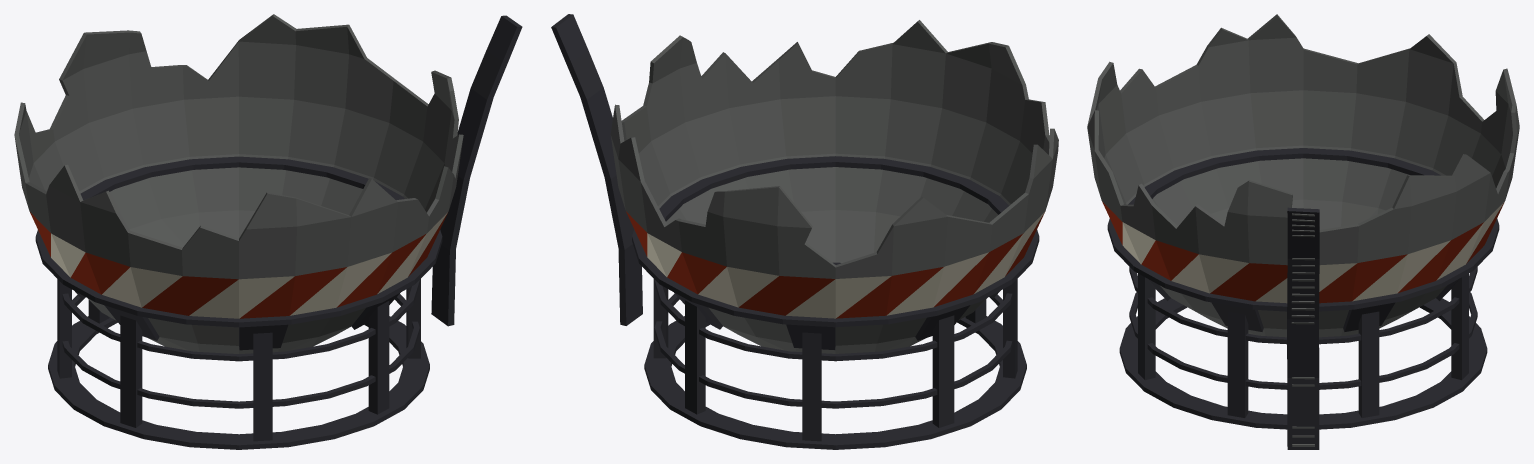
The model's file is LPWarPack_SphereTank_Exploded.fbx.
The picture shows the model from 3 angles, left to right: view 1: azimuth 30°, elevation 25°; view 2: azimuth 150°, elevation 25°; view 3: azimuth 270°, elevation 25°; orthographic projection. The views are drawn at different scales.
Parts seen in each view (by area): view 1: SphereTank_Exploded; view 2: SphereTank_Exploded; view 3: SphereTank_Exploded.
Part boxes in pixels (x1,y1,x2,y2): SphereTank_Exploded: (14, 14, 522, 449); SphereTank_Exploded: (551, 14, 1058, 449); SphereTank_Exploded: (1087, 14, 1519, 449).
Size of the model in its own units: 854 by 491 by 708.
